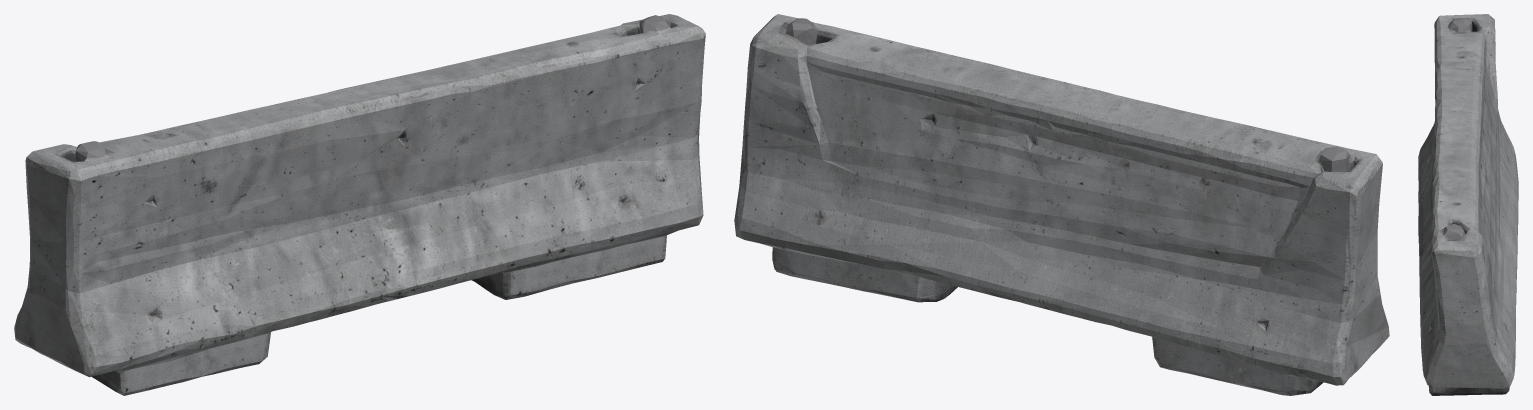
File: barrier.fbx
The picture shows the model from 3 angles, left to right: view 1: azimuth 30°, elevation 25°; view 2: azimuth 150°, elevation 25°; view 3: azimuth 270°, elevation 25°; orthographic projection. The views are drawn at different scales.
Visible parts, largest first — view 1: Mesh_0; view 2: Mesh_0; view 3: Mesh_0.
Part boxes in pixels (<box>): Mesh_0: <box>14,14,705,395</box>; Mesh_0: <box>734,14,1389,395</box>; Mesh_0: <box>1418,14,1518,395</box>.
Size of the model in its own units: 2.39 by 0.85 by 0.437.
1 material, 1 textured.
